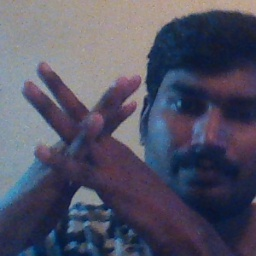W: (13, 51, 154, 215)
